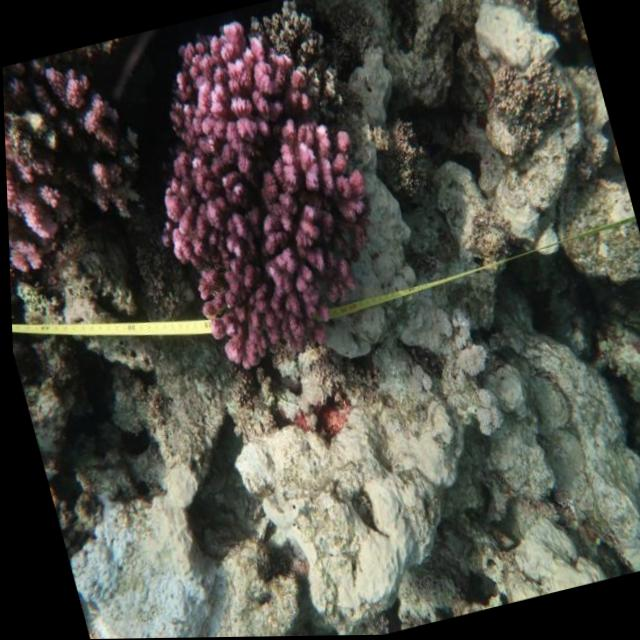Healthy Coral: (108, 8, 334, 378), (1, 41, 159, 313), (257, 115, 395, 311)
